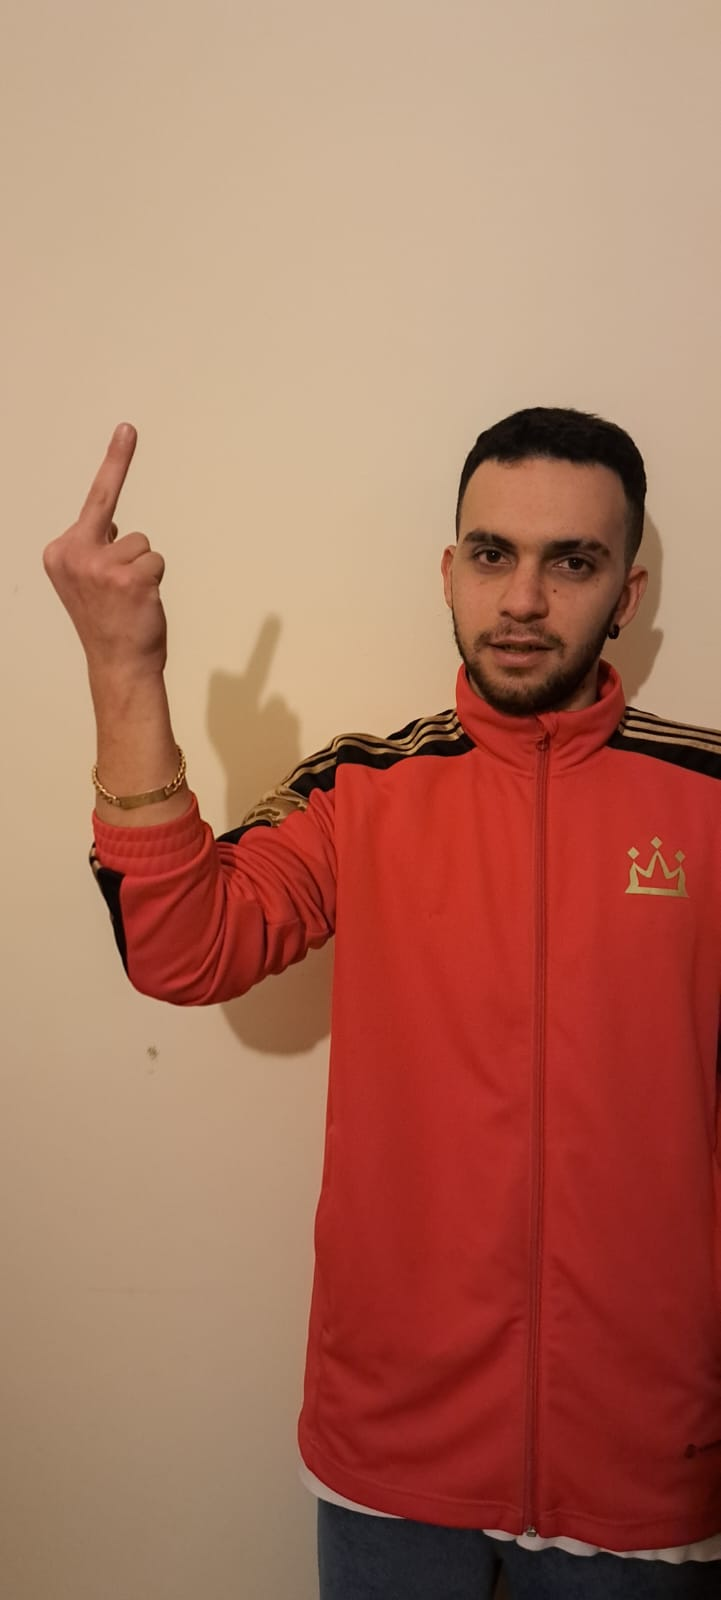fck: (34, 412, 179, 681)
